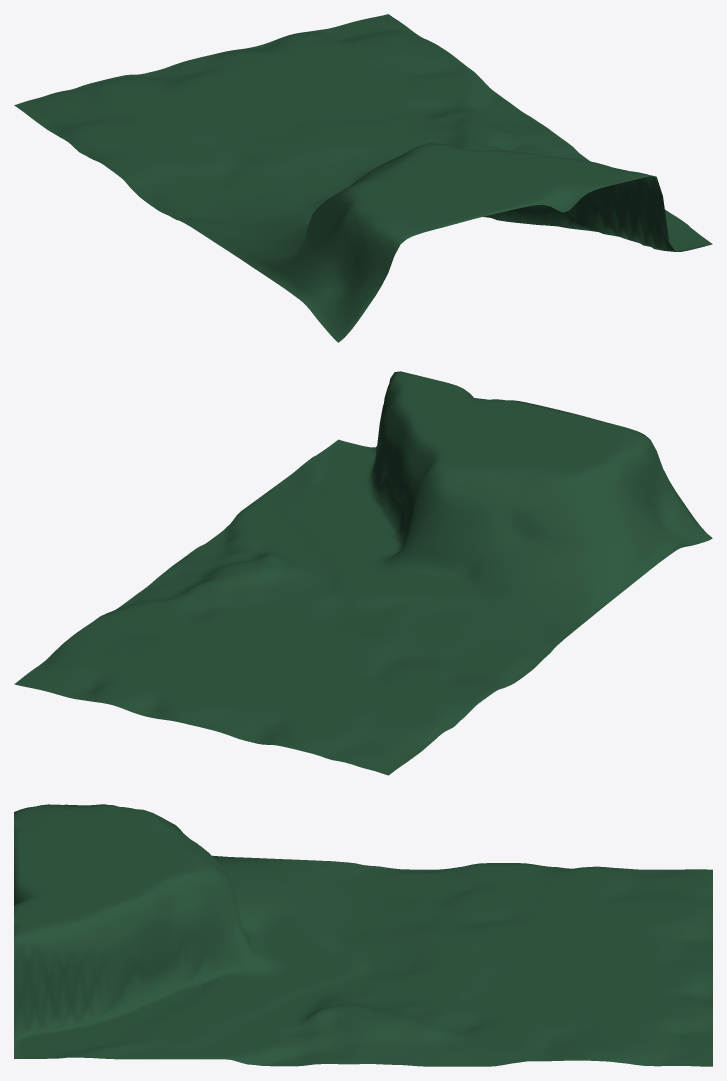
File: groundcolor.fbx
3 renders of one model, top to bottom at view 1: azimuth 30°, elevation 25°; view 2: azimuth 150°, elevation 25°; view 3: azimuth 270°, elevation 25°, orthographic. The views are drawn at different scales.
Visible parts, largest first — view 1: Landscape_0; view 2: Landscape_0; view 3: Landscape_0.
Boxes of the visible parts, x1=… form: Landscape_0: x1=14, y1=14, x2=712, y2=342; Landscape_0: x1=14, y1=371, x2=712, y2=775; Landscape_0: x1=14, y1=804, x2=712, y2=1066.
Size of the model in its own units: 6000 by 1390 by 9000.
